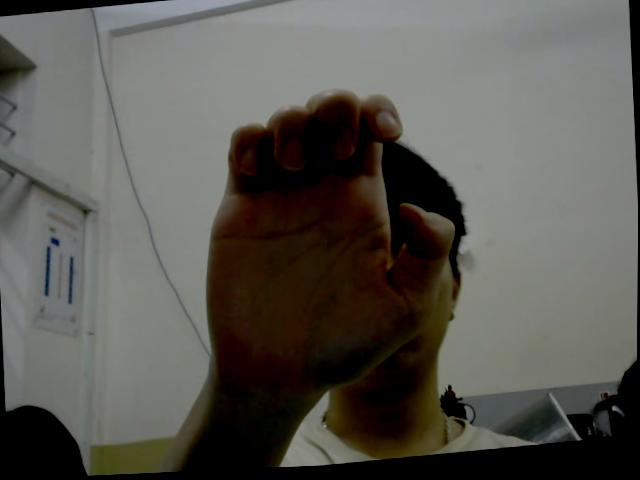E: (194, 79, 464, 397)
